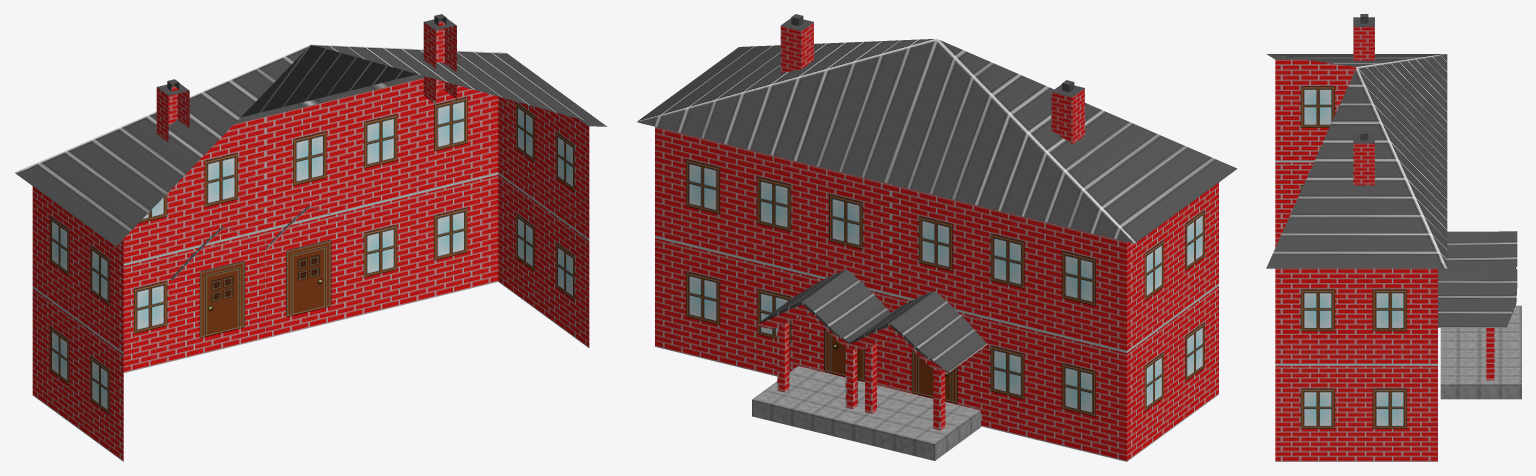
File: House_04.FBX
The picture shows the model from 3 angles, left to right: view 1: azimuth 30°, elevation 25°; view 2: azimuth 150°, elevation 25°; view 3: azimuth 270°, elevation 25°; orthographic projection. The views are drawn at different scales.
Visible parts, largest first — view 1: House_03, Chimneys; view 2: House_03, Terrace, Ground, Chimneys; view 3: House_03, Terrace, Ground, Chimneys.
Part boxes in pixels (bbox=[...]): House_03: bbox=[15, 44, 607, 461]; Chimneys: bbox=[156, 14, 456, 142]; House_03: bbox=[636, 38, 1237, 461]; Terrace: bbox=[755, 269, 987, 430]; Ground: bbox=[752, 366, 980, 460]; Chimneys: bbox=[780, 14, 1084, 144]; House_03: bbox=[1266, 54, 1447, 461]; Terrace: bbox=[1438, 231, 1517, 380]; Ground: bbox=[1440, 305, 1521, 399]; Chimneys: bbox=[1353, 14, 1374, 185].
Size of the model in its own units: 125 by 80.52 by 62.93.
